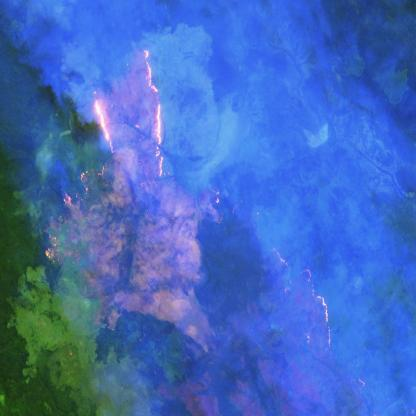fire: (42, 40, 166, 260), (271, 249, 370, 416)
